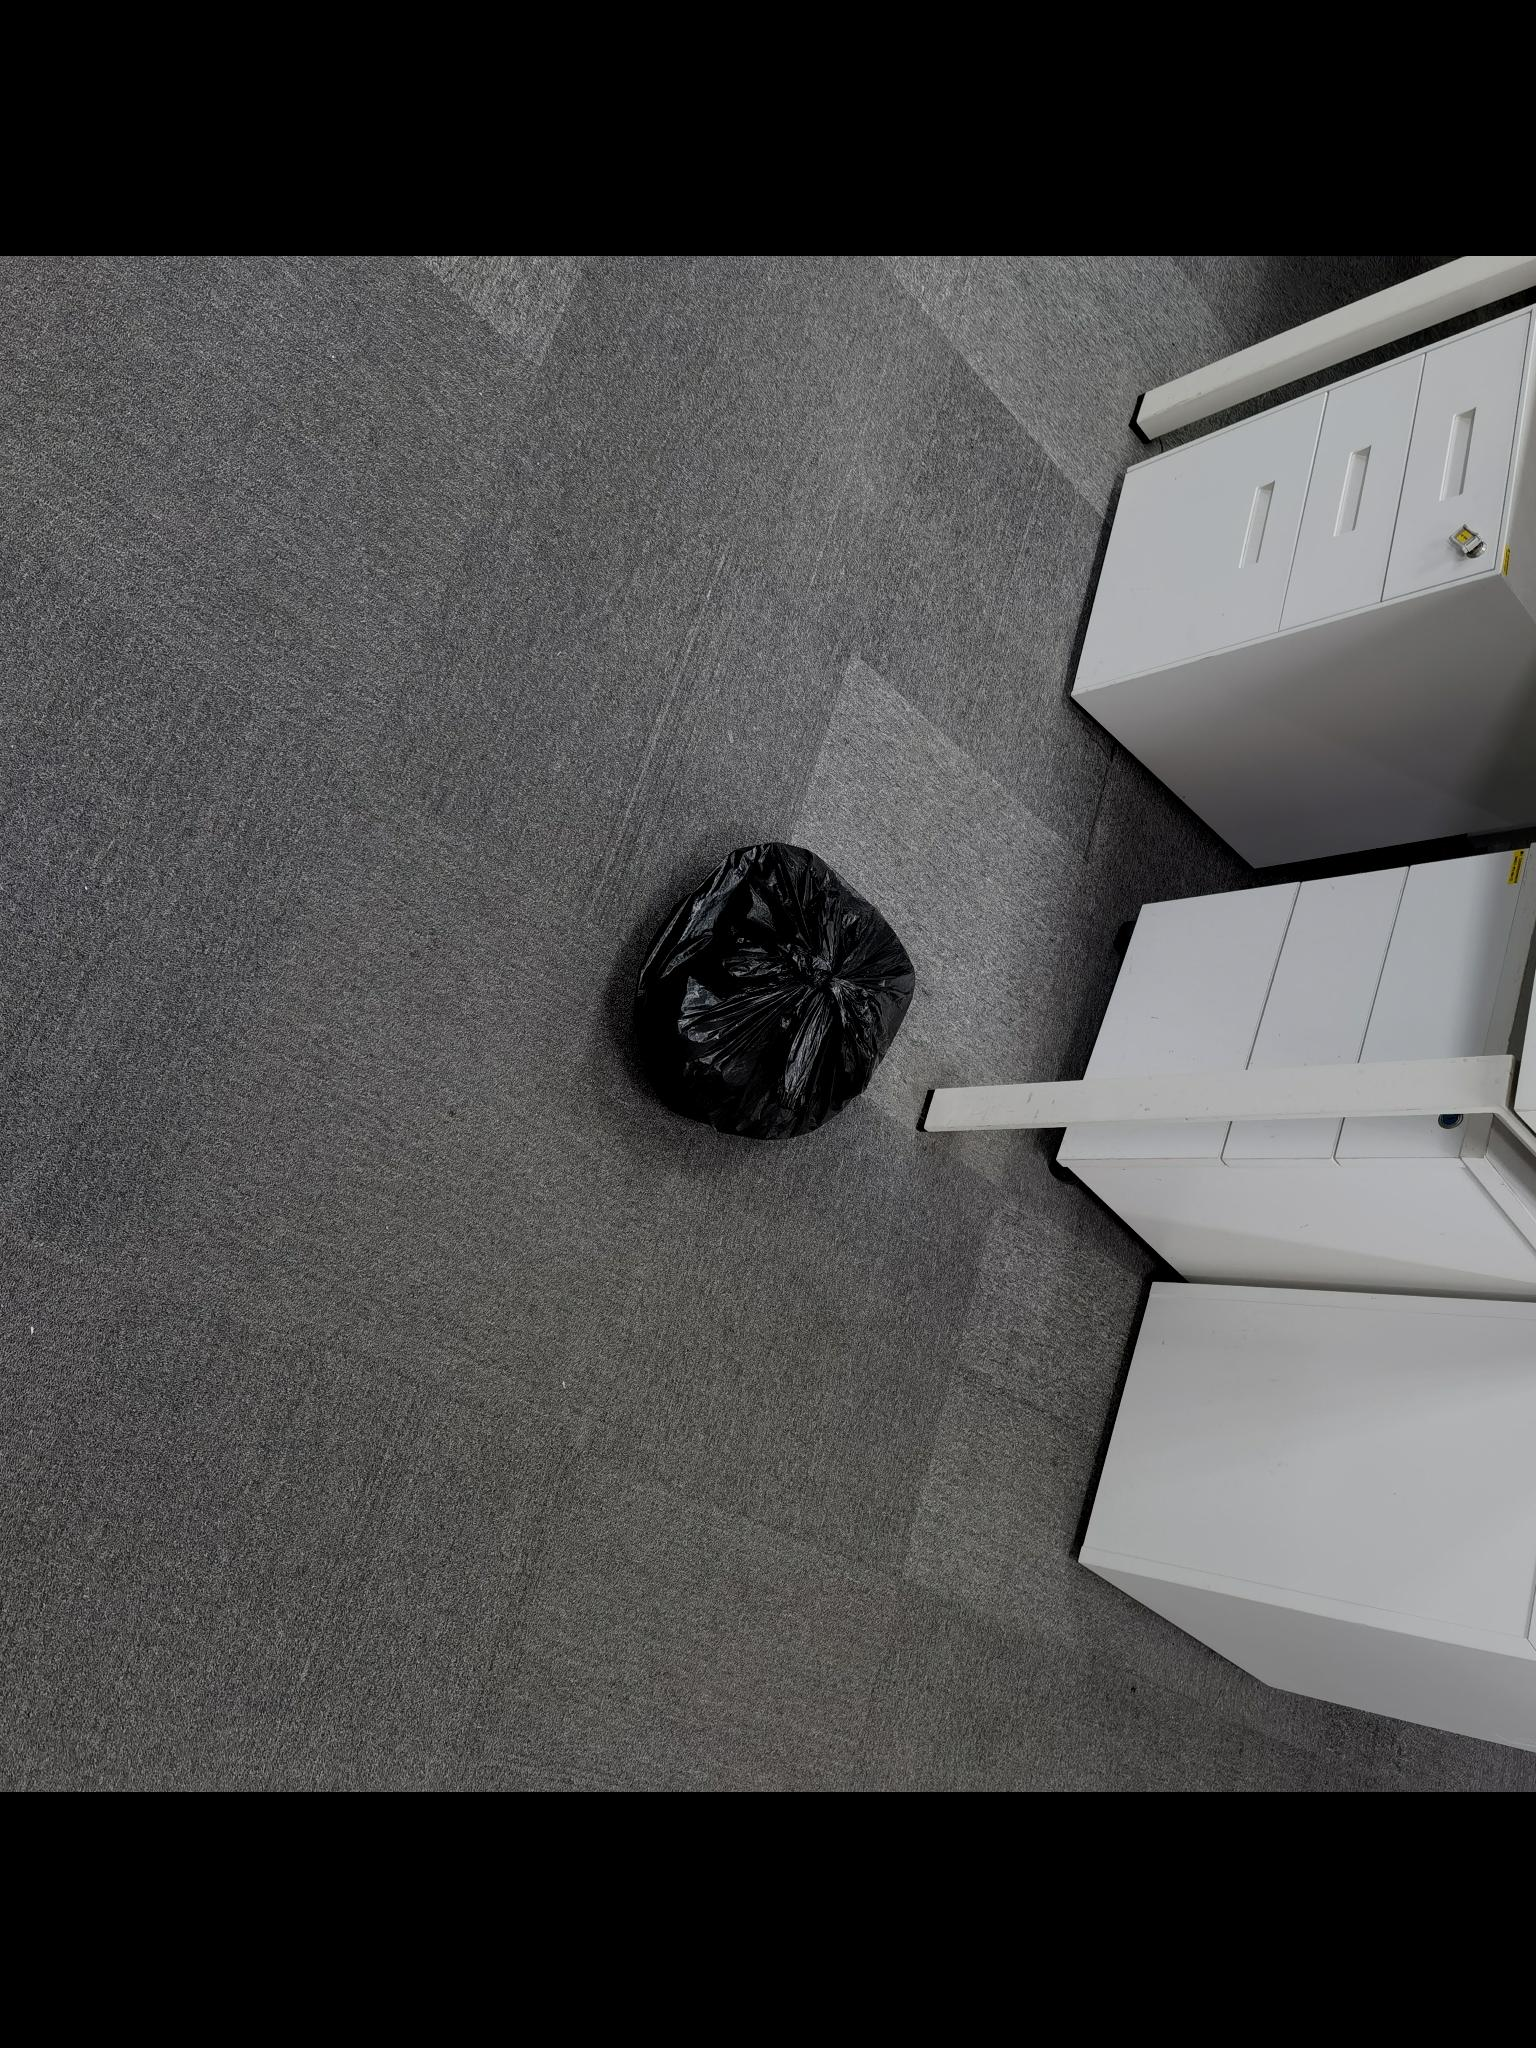black_bag: (623, 832, 921, 1142)
